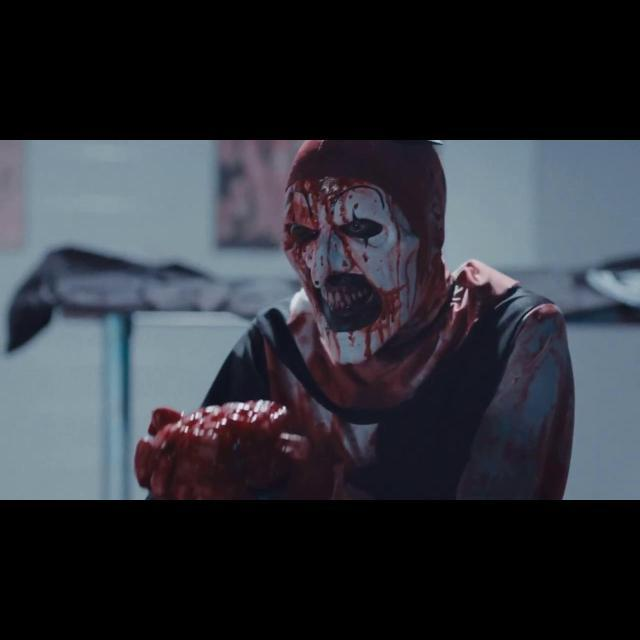blood: (284, 177, 519, 409), (135, 344, 376, 498), (460, 304, 575, 498)
